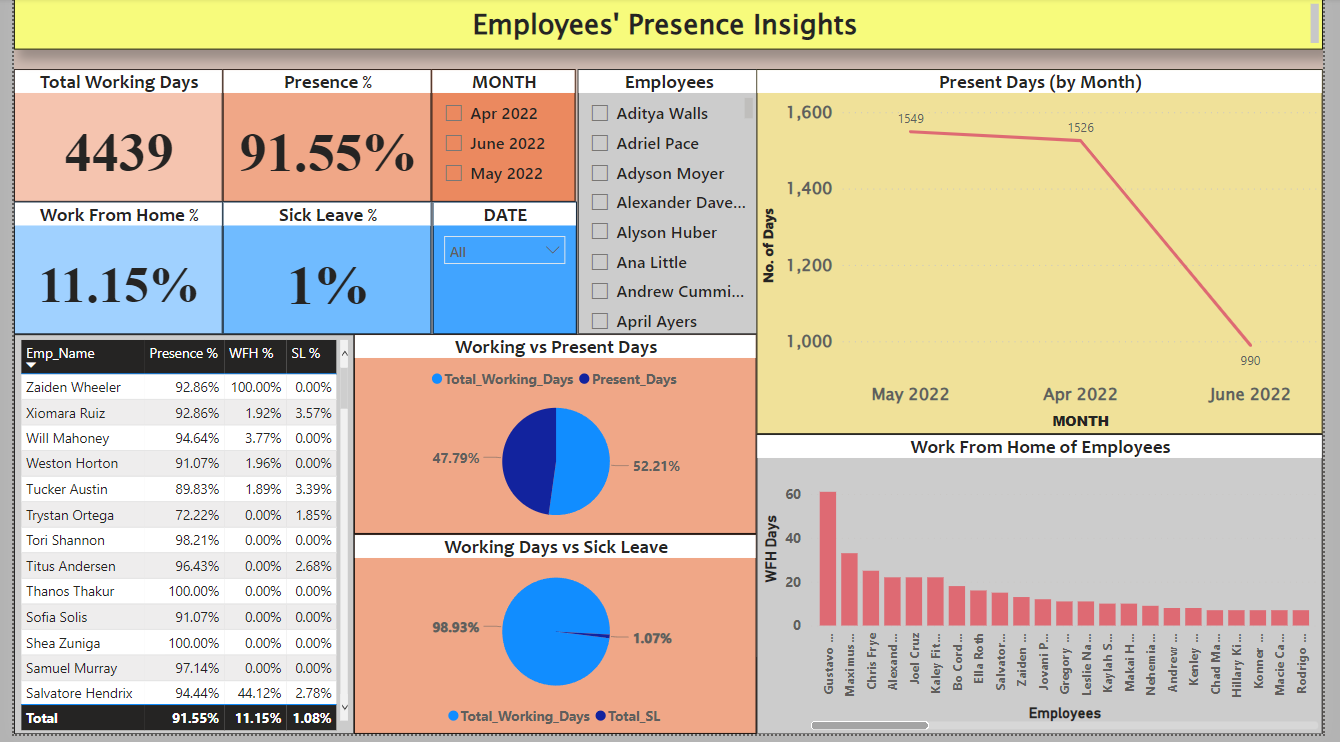

What the dashboard file says about the page in this screenshot:
{"tool":"powerbi","page":{"name":"Page 1","canvas":[1280,720],"ordinal":0},"visuals":[{"type":"card","title":"Total Working Days","fields":{"Values":["Measure.Total_Working_Days"]},"box":[0,69.7,204.1,129.6],"z":0},{"type":"card","title":"Presence %","fields":{"Values":["Measure.Presence %"]},"box":[204.1,69.7,204.1,129.6],"z":1000},{"type":"slicer","title":"MONTH","fields":{"Values":["HR Data.Month"]},"box":[408.3,69.7,140.6,129.6],"z":2000},{"type":"card","title":"Work From Home %","fields":{"Values":["Measure.WFH %"]},"box":[0,199.3,204.1,129.6],"z":3000},{"type":"card","title":"Sick Leave %","fields":{"Values":["Measure.SL %"]},"box":[204.1,199.3,204.1,129.6],"z":4000},{"type":"textbox","box":[0,0,1279.9,50.1],"z":5000},{"type":"tableEx","fields":{"Values":["HR Data.Emp_Name","Measure.Presence %","Measure.WFH %","Measure.SL %"]},"box":[0,328.8,332.5,391.2],"z":6000},{"type":"slicer","title":"DATE","fields":{"Values":["HR Data.Date"]},"box":[409.5,199.3,140.6,129.6],"z":7000},{"type":"pieChart","title":"Working vs Present Days","fields":{"Y":["Measure.Total_Working_Days","Measure.Present_Days"]},"box":[332.5,328.8,393.6,195.6],"z":8000},{"type":"slicer","title":"Employees","fields":{"Values":["HR Data.Emp_Name"]},"box":[551.3,69.7,177.2,259.2],"z":9000},{"type":"pieChart","title":"Working Days vs Sick Leave","fields":{"Y":["Measure.Total_Working_Days","Measure.Total_SL"]},"box":[332.5,524.4,393.6,195.6],"z":10000},{"type":"lineChart","title":"Present Days (by Month)","fields":{"Category":["HR Data.Month"],"Y":["Measure.Present_Days"]},"box":[726.1,69.7,553.8,356.9],"z":11000},{"type":"columnChart","title":"Work From Home of Employees","fields":{"Category":["HR Data.Emp_Name"],"Y":["HR Data.WFH_Count"]},"box":[726.1,426.6,553.8,293.4],"z":12000}]}

Visuals, with their boxes in screenshot pixels (x1, y1, x2, y2), scaled from the page's 1280x720 canvas onto the 1340x742 screenshot:
"Total Working Days" card: x1=0, y1=72, x2=214, y2=205
"Presence %" card: x1=214, y1=72, x2=427, y2=205
"MONTH" slicer: x1=427, y1=72, x2=575, y2=205
"Work From Home %" card: x1=0, y1=205, x2=214, y2=339
"Sick Leave %" card: x1=214, y1=205, x2=427, y2=339
textbox: x1=0, y1=0, x2=1339, y2=52
tableEx - HR Data.Emp_Name x Measure.Presence %: x1=0, y1=339, x2=348, y2=741
"DATE" slicer: x1=429, y1=205, x2=576, y2=339
"Working vs Present Days" pieChart: x1=348, y1=339, x2=760, y2=540
"Employees" slicer: x1=577, y1=72, x2=763, y2=339
"Working Days vs Sick Leave" pieChart: x1=348, y1=540, x2=760, y2=741
"Present Days (by Month)" lineChart: x1=760, y1=72, x2=1339, y2=440
"Work From Home of Employees" columnChart: x1=760, y1=440, x2=1339, y2=741
